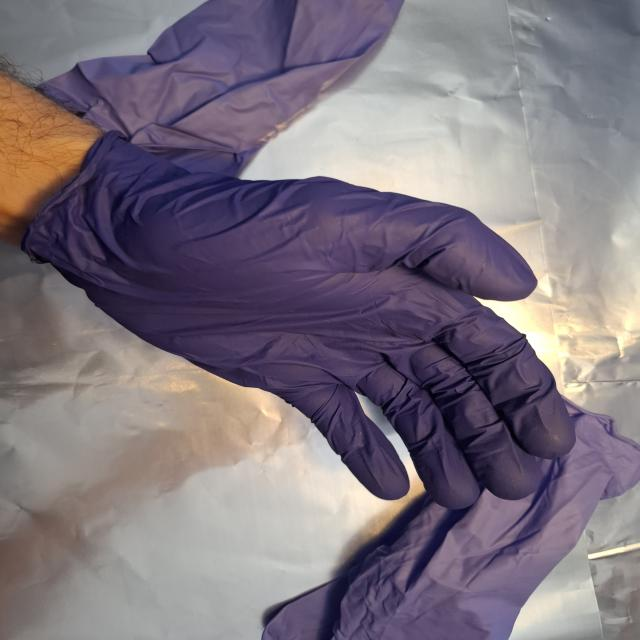glove_on: (24, 121, 580, 513)
